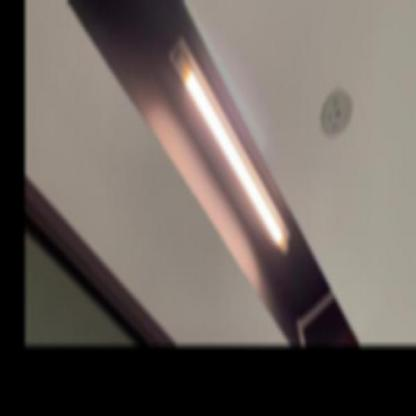light_on: (155, 16, 306, 265)
